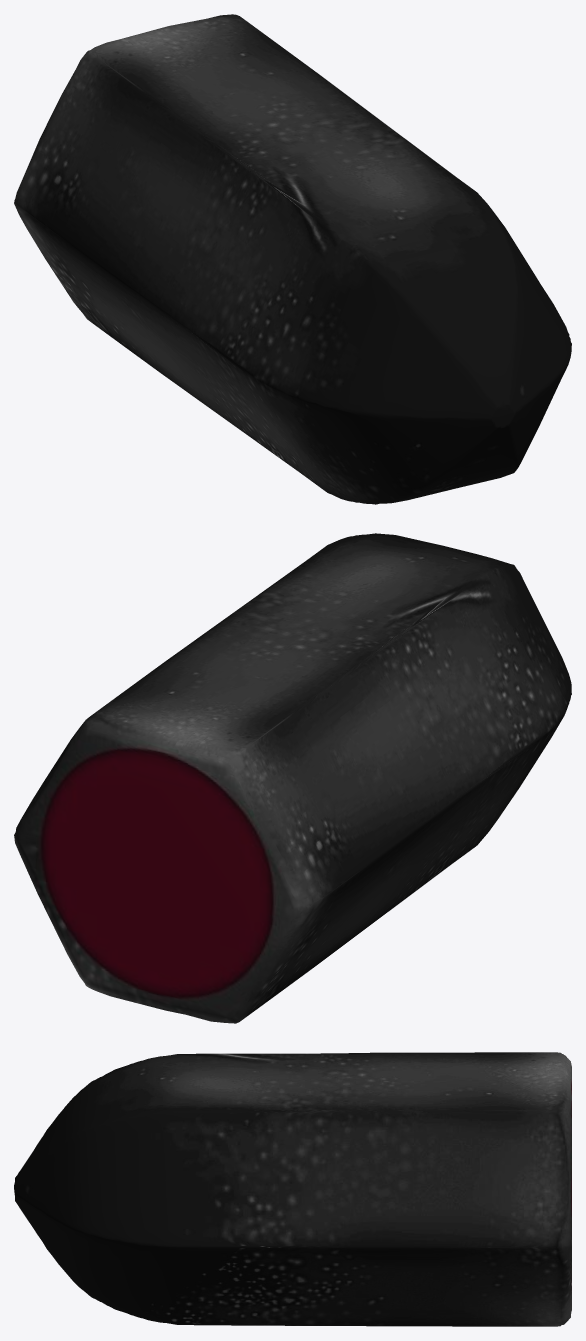
Rendered from modelf.obj.
3 renders of one model, top to bottom at view 1: azimuth 30°, elevation 25°; view 2: azimuth 150°, elevation 25°; view 3: azimuth 270°, elevation 25°, orthographic. The views are drawn at different scales.
Visible parts, largest first — view 1: mmGroup0; view 2: mmGroup0; view 3: mmGroup0.
Boxes of the visible parts, x1,y1,x2,y2 form: mmGroup0: (14, 14, 571, 504); mmGroup0: (14, 533, 571, 1023); mmGroup0: (14, 1052, 571, 1326).
Size of the model in its own units: 2.42 by 2.14 by 4.92.
Materials: 1 (1 with a texture image).
